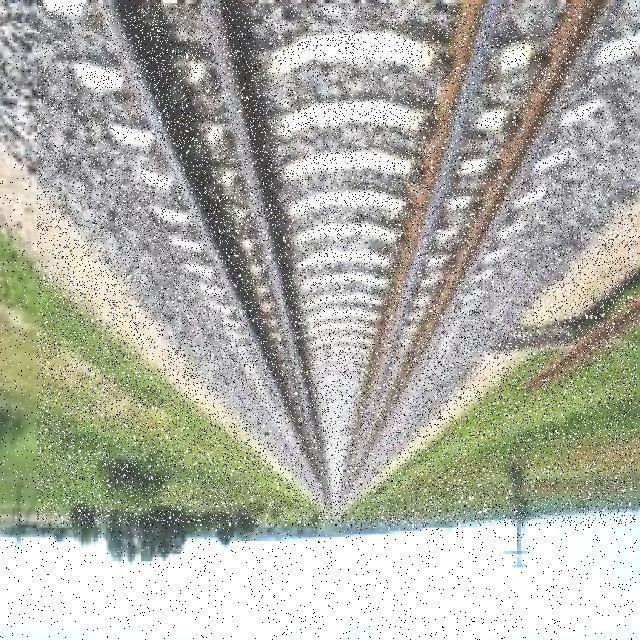rail: (38, 5, 638, 526)
